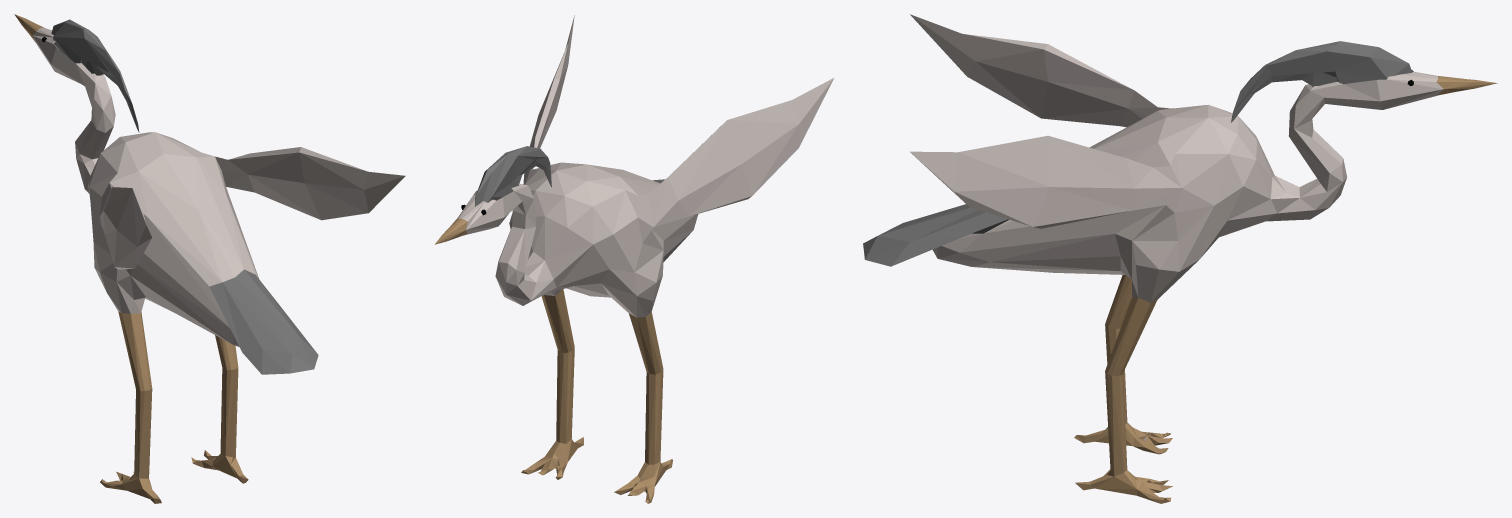
File: Heron.fbx
3 views of the same model, side by side, from view 1: azimuth 30°, elevation 25°; view 2: azimuth 150°, elevation 25°; view 3: azimuth 270°, elevation 25° (orthographic). The views are drawn at different scales.
Visible parts, largest first — view 1: Body, Black, Yellow; view 2: Body, Yellow, Black; view 3: Body, Black, Yellow.
Part boxes in pixels (box(x1,y1,x2,y2)): Body: box(32, 27, 405, 482); Black: box(51, 19, 318, 374); Yellow: box(14, 14, 248, 503); Body: box(457, 15, 833, 464); Yellow: box(435, 218, 672, 503); Black: box(475, 146, 664, 206); Body: box(910, 14, 1443, 484); Black: box(863, 41, 1412, 266); Yellow: box(1074, 76, 1497, 503).
Size of the model in its own units: 562 by 816 by 1095.
